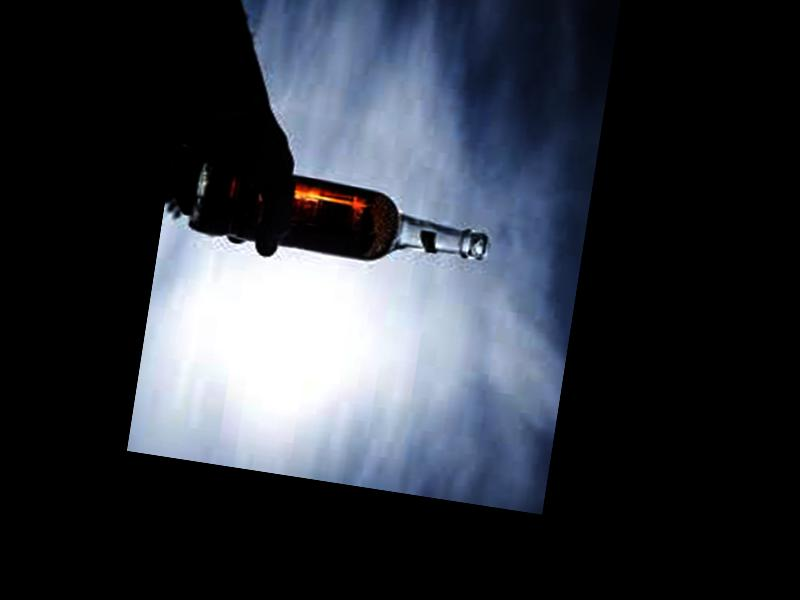Beer: (193, 161, 493, 274)
